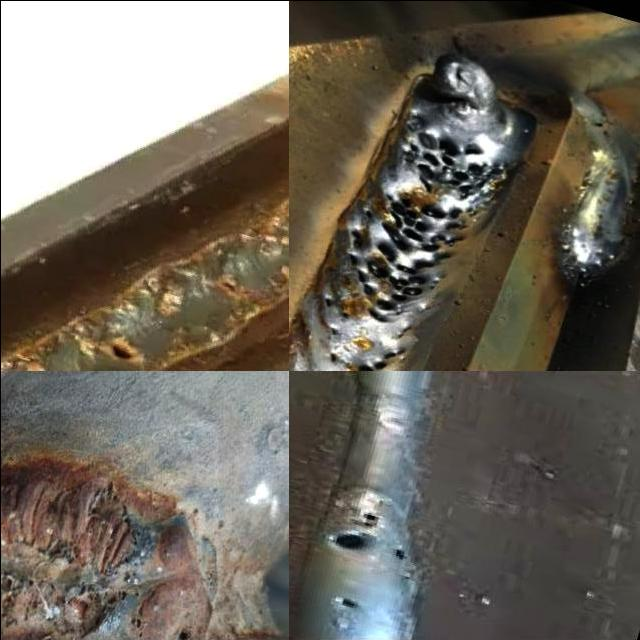defect: (344, 192, 473, 319), (400, 124, 506, 204), (85, 487, 143, 570), (73, 574, 131, 640), (326, 509, 380, 555), (349, 343, 415, 371), (52, 530, 89, 568), (0, 569, 20, 616), (384, 541, 420, 566), (331, 590, 364, 611), (109, 341, 141, 362), (126, 609, 146, 640), (218, 278, 247, 298), (394, 319, 418, 337), (321, 346, 343, 364), (175, 621, 195, 640), (318, 295, 334, 310), (339, 310, 354, 320), (326, 327, 339, 338)
